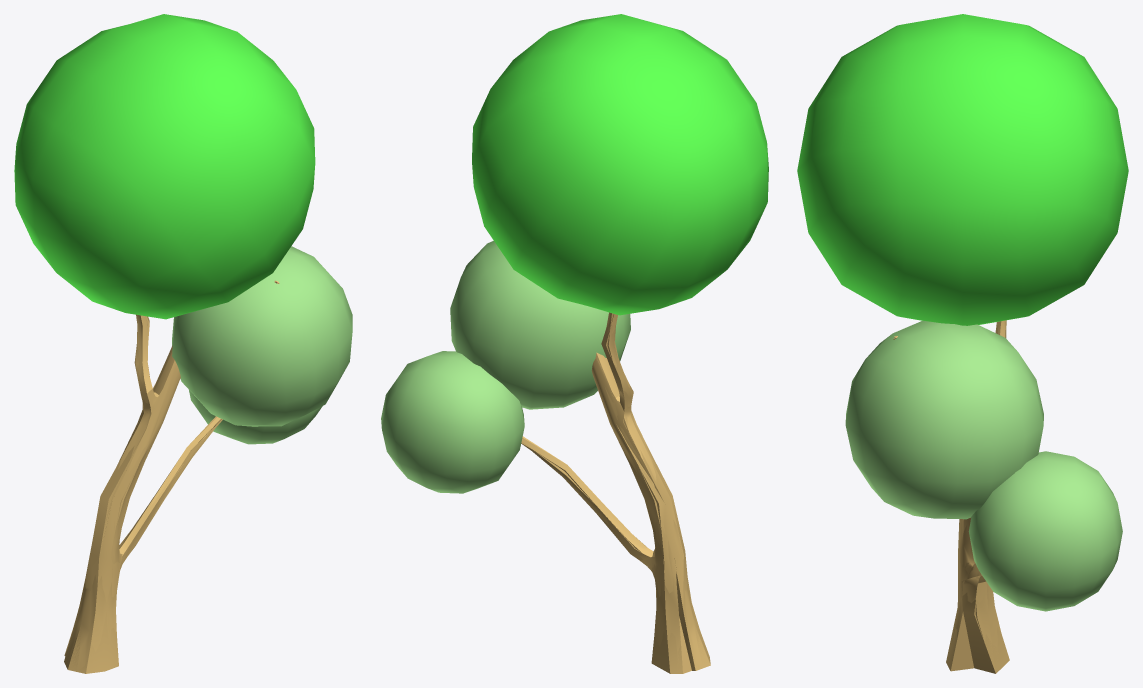
File: tree4_smoother.fbx
The picture shows the model from 3 angles, left to right: view 1: azimuth 30°, elevation 25°; view 2: azimuth 150°, elevation 25°; view 3: azimuth 270°, elevation 25°; orthographic projection. The views are drawn at different scales.
Visible parts, largest first — view 1: pCube2, pCube3, tree_17, tree_19, pCube1; view 2: pCube2, pCube3, pCube1, tree_17, tree_19; view 3: pCube2, pCube3, pCube1, tree_17, tree_19.
Part boxes in pixels (bbox=[...]): pCube2: bbox=[14, 14, 315, 319]; pCube3: bbox=[172, 246, 352, 426]; tree_17: bbox=[64, 280, 279, 673]; tree_19: bbox=[65, 281, 279, 673]; pCube1: bbox=[189, 390, 322, 444]; pCube2: bbox=[472, 14, 768, 315]; pCube3: bbox=[450, 241, 630, 409]; pCube1: bbox=[381, 351, 524, 493]; tree_17: bbox=[522, 314, 710, 673]; tree_19: bbox=[521, 312, 710, 673]; pCube2: bbox=[797, 14, 1128, 325]; pCube3: bbox=[845, 320, 1043, 519]; pCube1: bbox=[968, 451, 1122, 611]; tree_17: bbox=[893, 322, 1009, 673]; tree_19: bbox=[894, 320, 1006, 673].
Bounding box in the file's own units: 712 × 1293 × 572.
